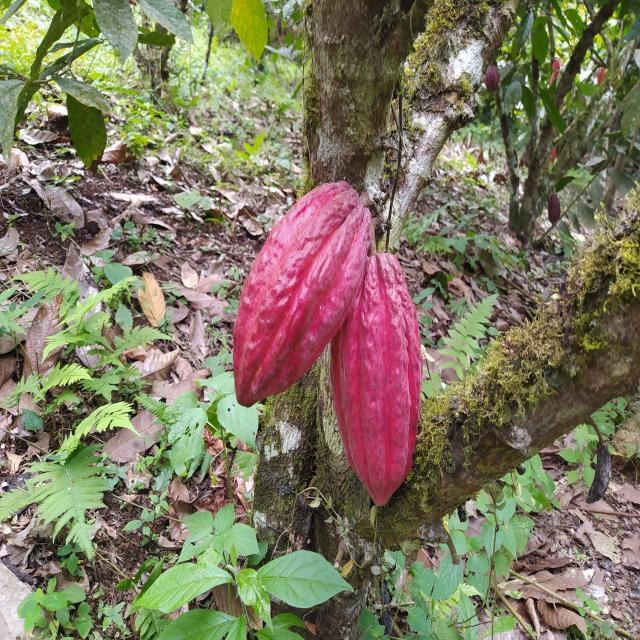Sana: (230, 186, 380, 406), (334, 247, 422, 510)
